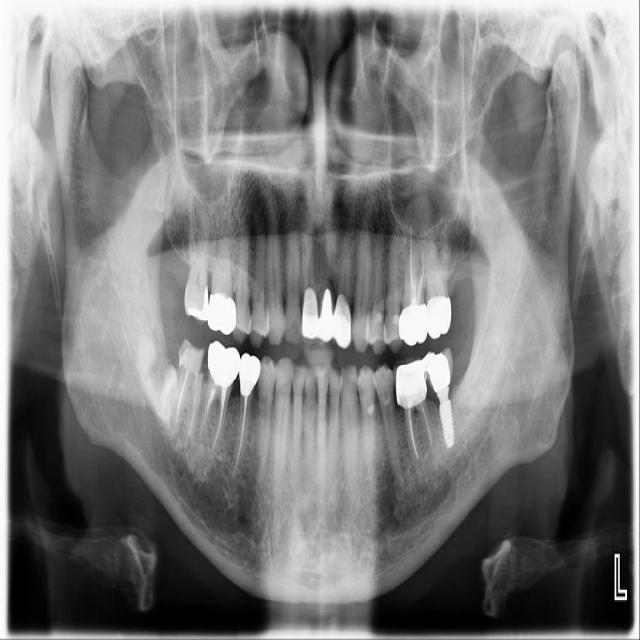Caries: (150, 353, 171, 391), (201, 351, 207, 375)
Crown: (393, 356, 427, 410), (208, 340, 240, 392), (399, 295, 429, 346), (423, 347, 453, 394), (208, 290, 236, 336), (426, 291, 451, 340), (333, 291, 352, 354), (318, 285, 335, 347), (302, 287, 319, 347), (239, 353, 261, 398)
Filling: (365, 304, 387, 355), (178, 339, 204, 380), (356, 364, 376, 416), (383, 304, 404, 353), (373, 363, 395, 409), (185, 287, 210, 322)
Implant: (439, 385, 455, 450)
Root Canal Treatment: (236, 398, 248, 468), (174, 376, 190, 423), (214, 386, 226, 442), (407, 409, 418, 458), (202, 388, 214, 430), (420, 406, 430, 443), (416, 256, 424, 296), (409, 236, 413, 301), (189, 380, 194, 426)
impacted tooth: (137, 319, 176, 422)
